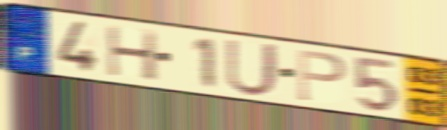1: (191, 37, 219, 91)
4: (55, 20, 100, 75)
5: (352, 55, 402, 113)
H: (104, 23, 161, 83)
P: (295, 47, 349, 104)
U: (223, 36, 281, 98)
